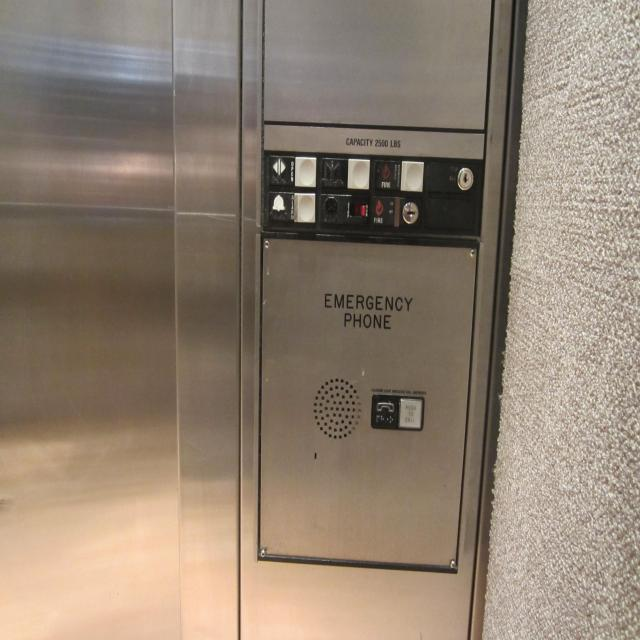alarm: (265, 190, 317, 227)
call: (370, 392, 402, 432)
close: (318, 156, 371, 192)
fire: (368, 195, 424, 229), (372, 158, 424, 193)
keyhole: (456, 166, 475, 191)
open: (266, 154, 317, 188)
stop: (319, 192, 369, 226)
text_CALL CANCEL: (398, 396, 424, 429)
